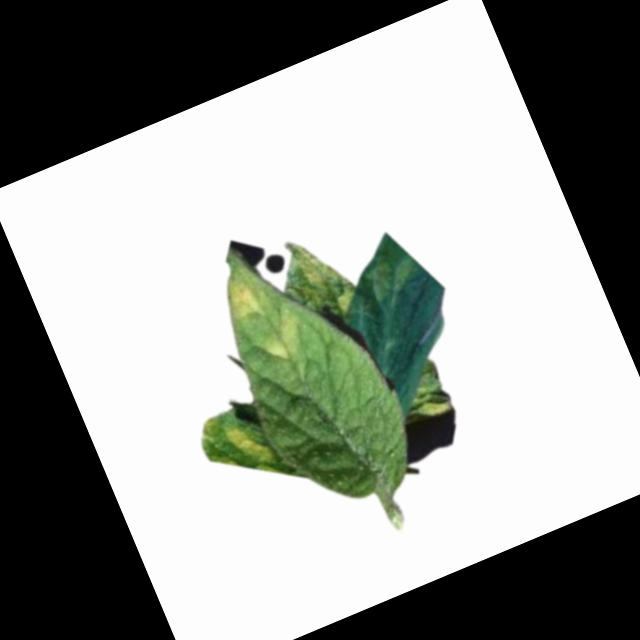Leaf_Mold: (281, 227, 364, 330), (196, 400, 279, 490), (355, 244, 423, 307), (211, 265, 272, 332), (249, 308, 306, 366), (415, 383, 454, 420)
